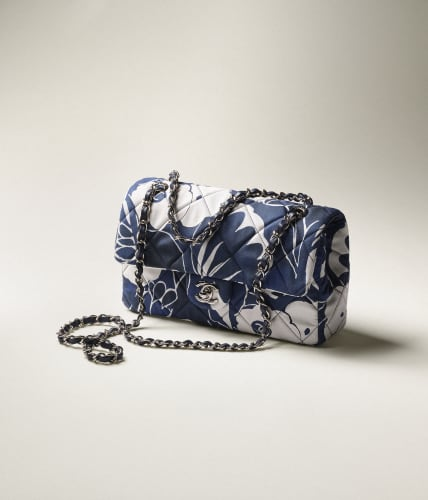channel: (106, 154, 359, 342), (127, 186, 160, 295), (187, 270, 229, 306)
